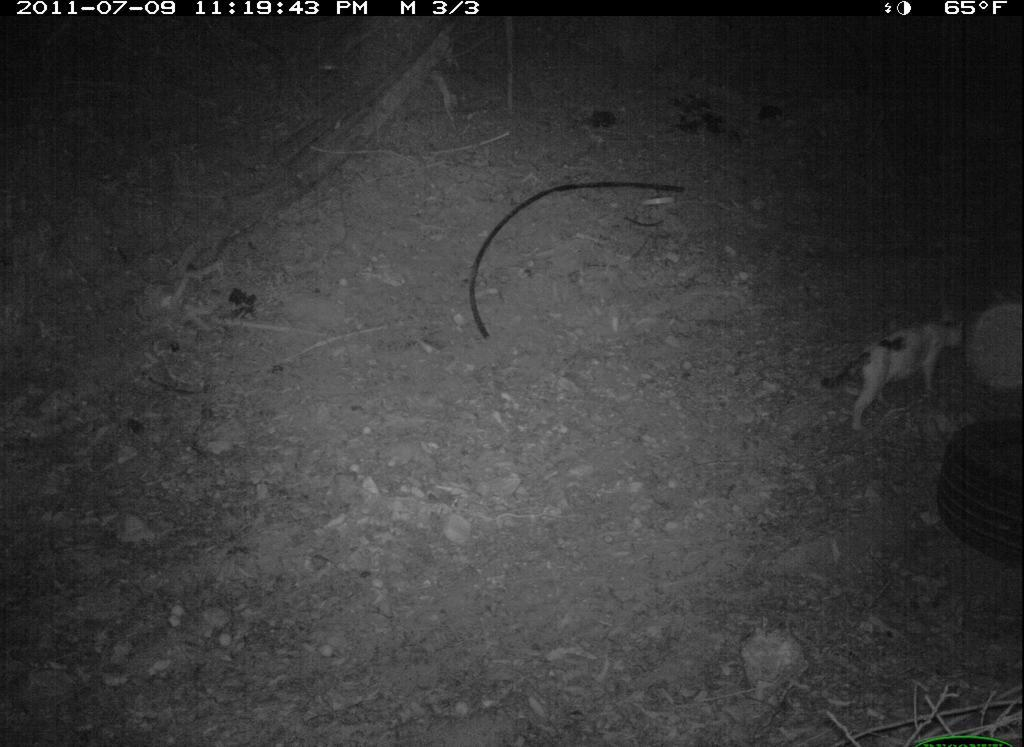cat: (801, 297, 977, 438)
